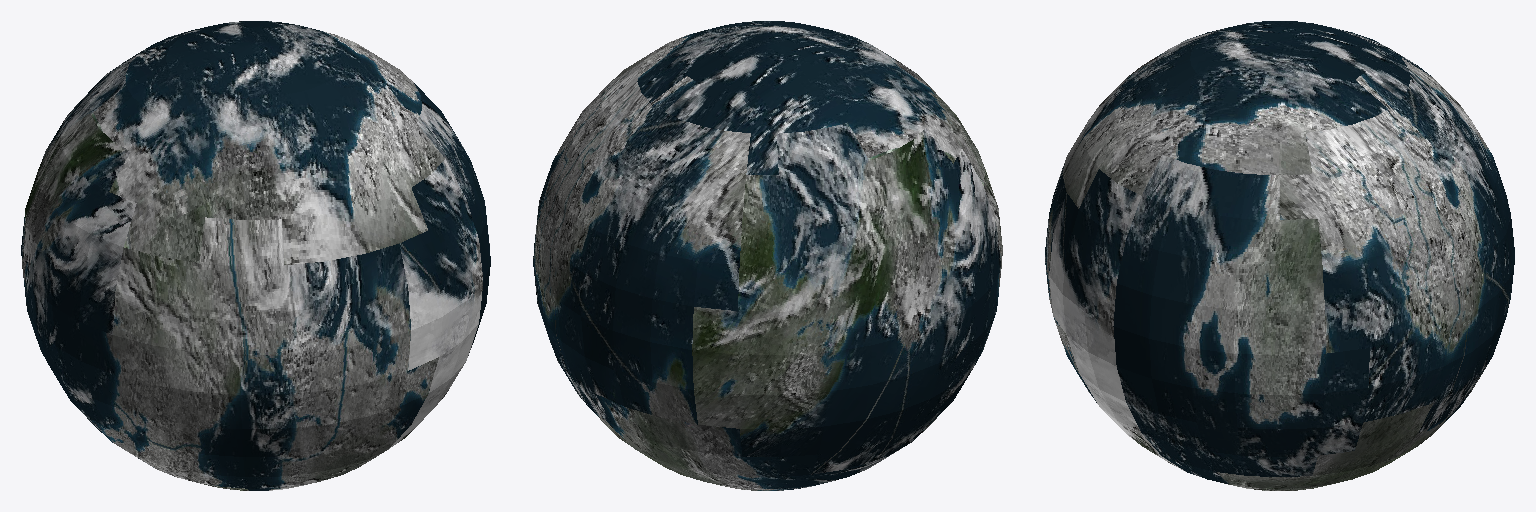
The picture shows the model from 3 angles: view 1: azimuth 30°, elevation 25°; view 2: azimuth 150°, elevation 25°; view 3: azimuth 270°, elevation 25°; orthographic projection.
Visible parts, largest first — view 1: Sphere; view 2: Sphere; view 3: Sphere.
Boxes of the visible parts, <box> form: Sphere: <box>21,21,490,490</box>; Sphere: <box>533,21,1002,490</box>; Sphere: <box>1045,21,1514,490</box>.
Size of the model in its own units: 2 by 2 by 2.
Materials: 1 (1 with a texture image).